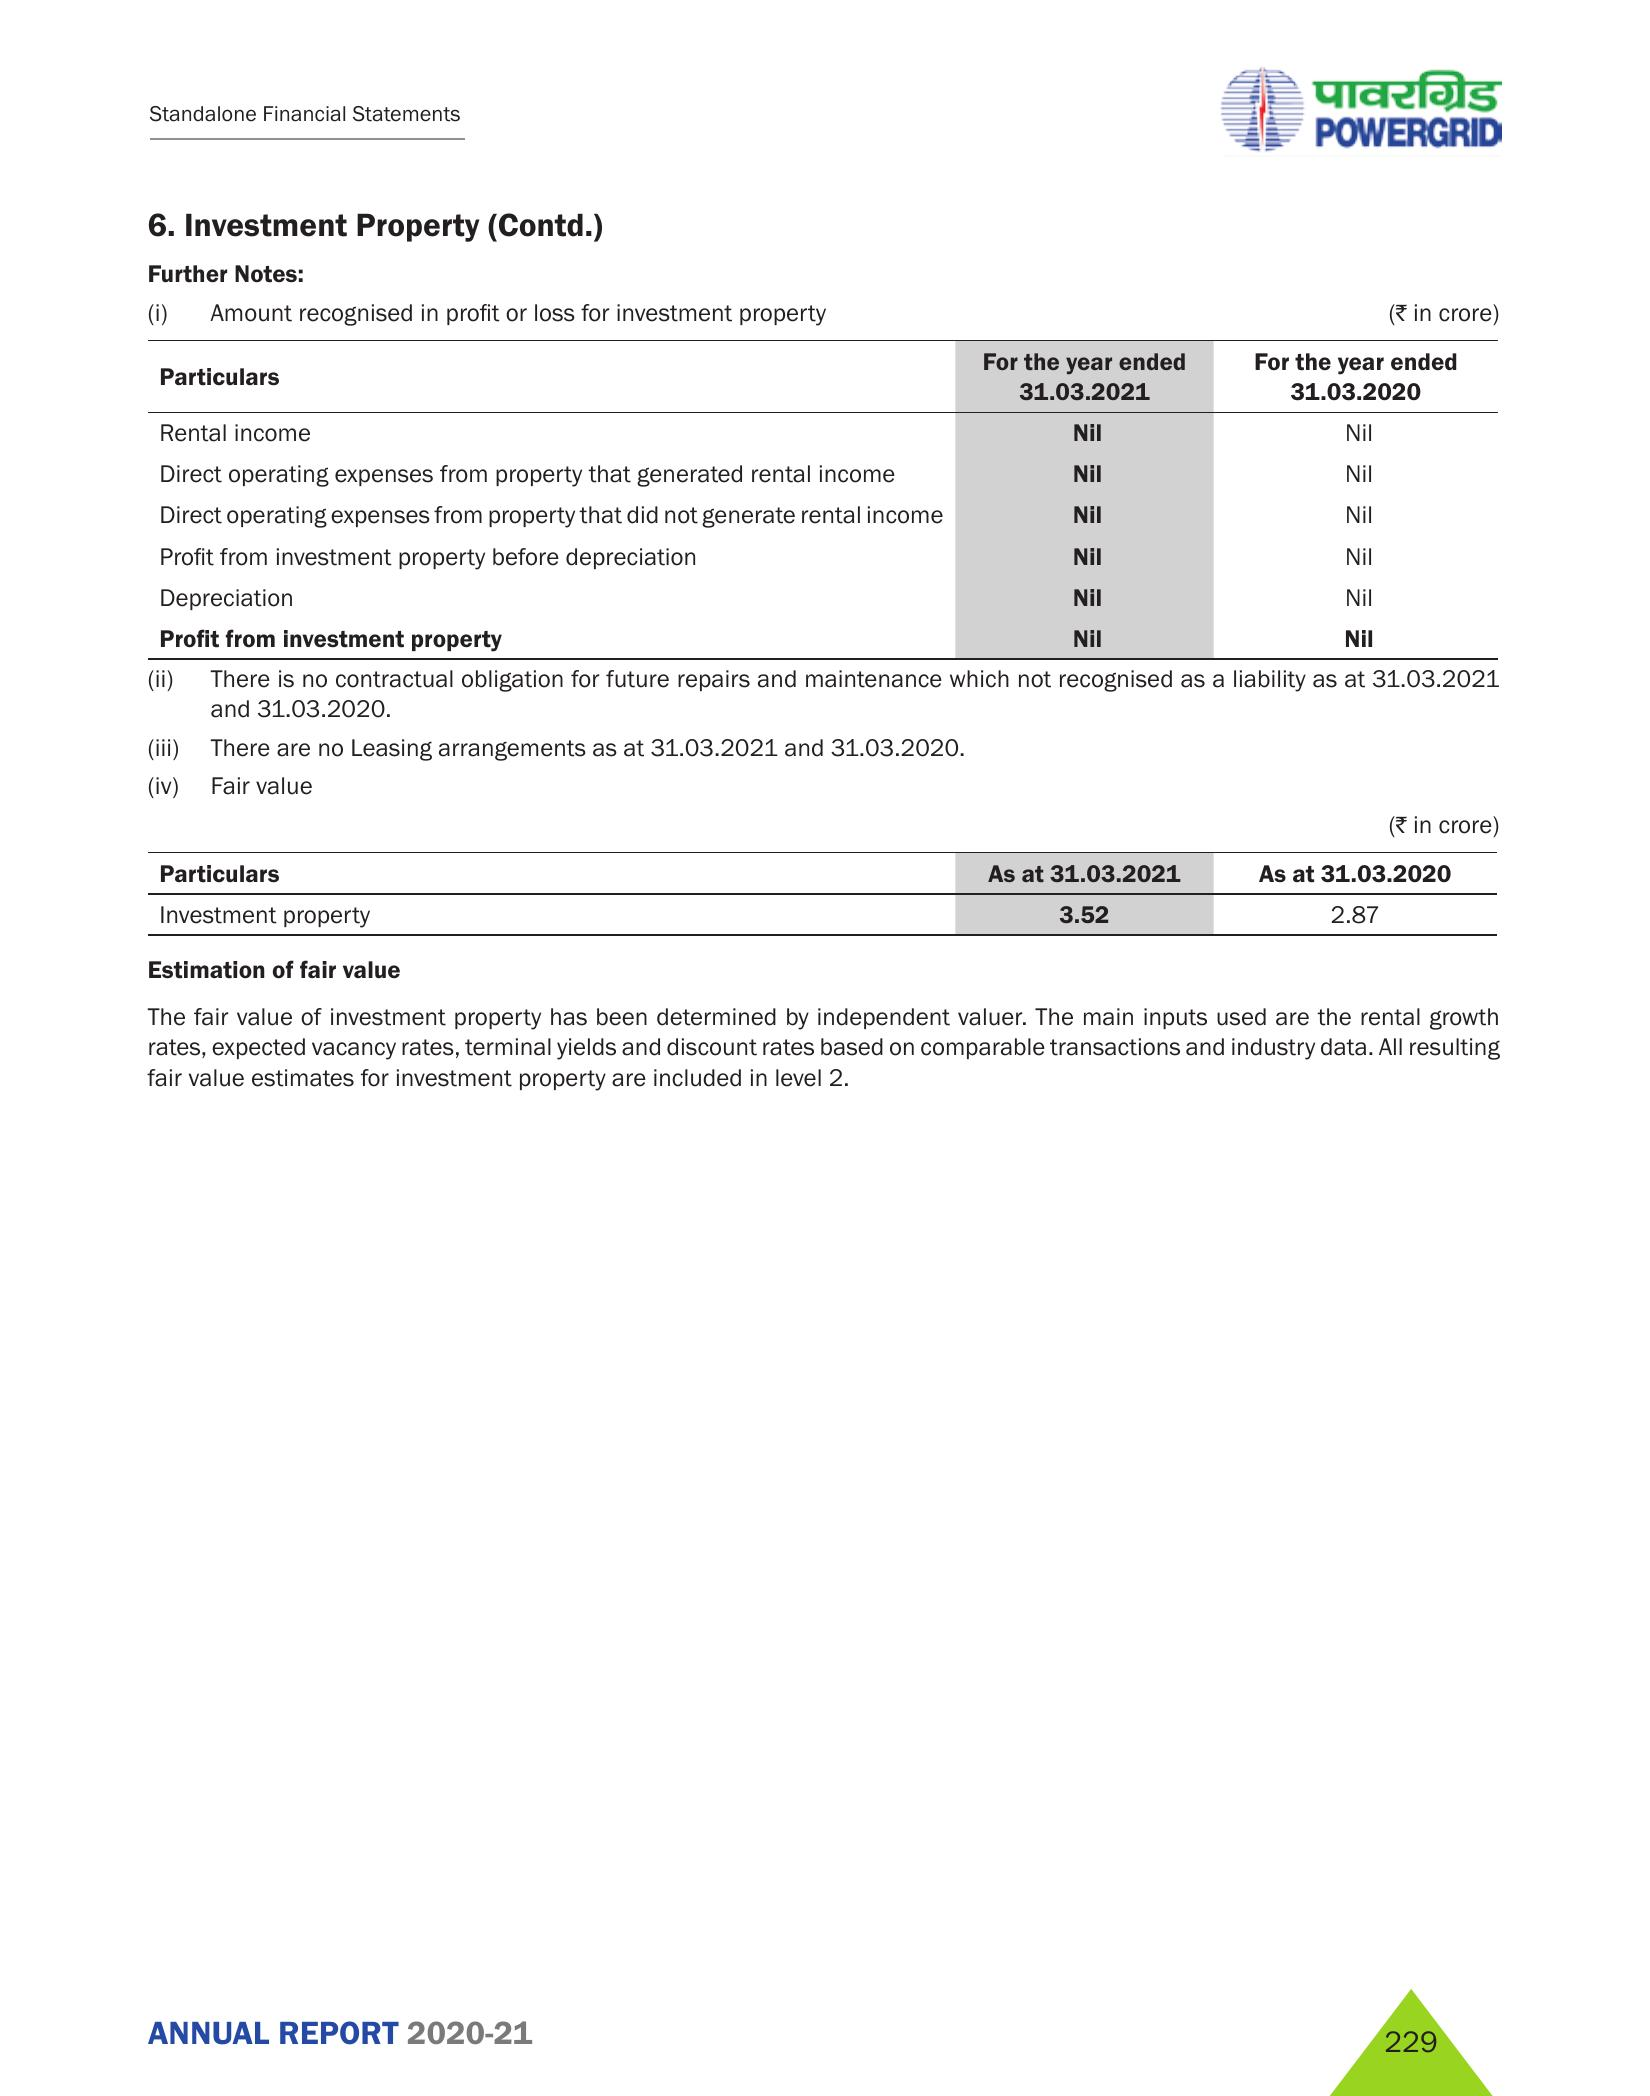Footer: (0, 1962, 1650, 2096)
Header: (0, 0, 1650, 168)
Table: (77, 289, 1533, 665), (99, 810, 1499, 965)
